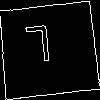L: (24, 24, 53, 74)
